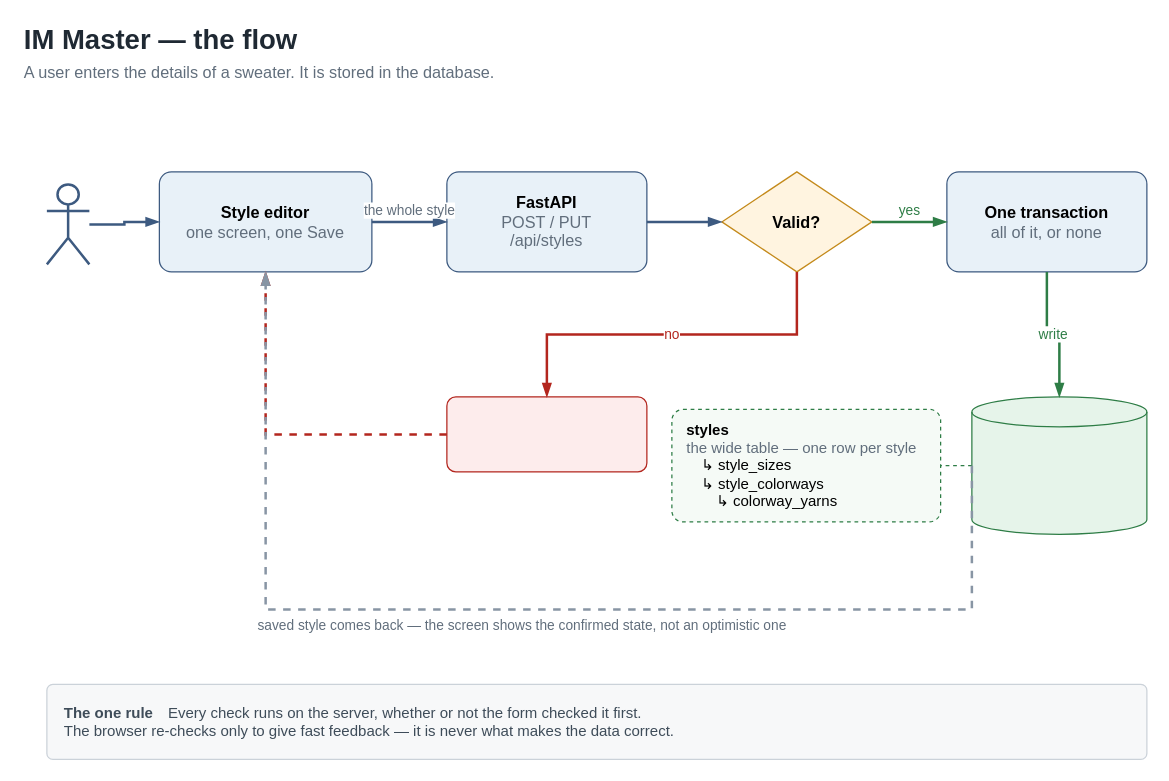
The diagram is 1169 pixels wide and 781 high, and some of its shapes have lost their labels. Each missing label, with the box of its shape:
Errors go back to the field nothing is saved: (446, 396, 647, 472)
Office staff: (45, 182, 90, 265)
Postgres: (971, 396, 1147, 534)
